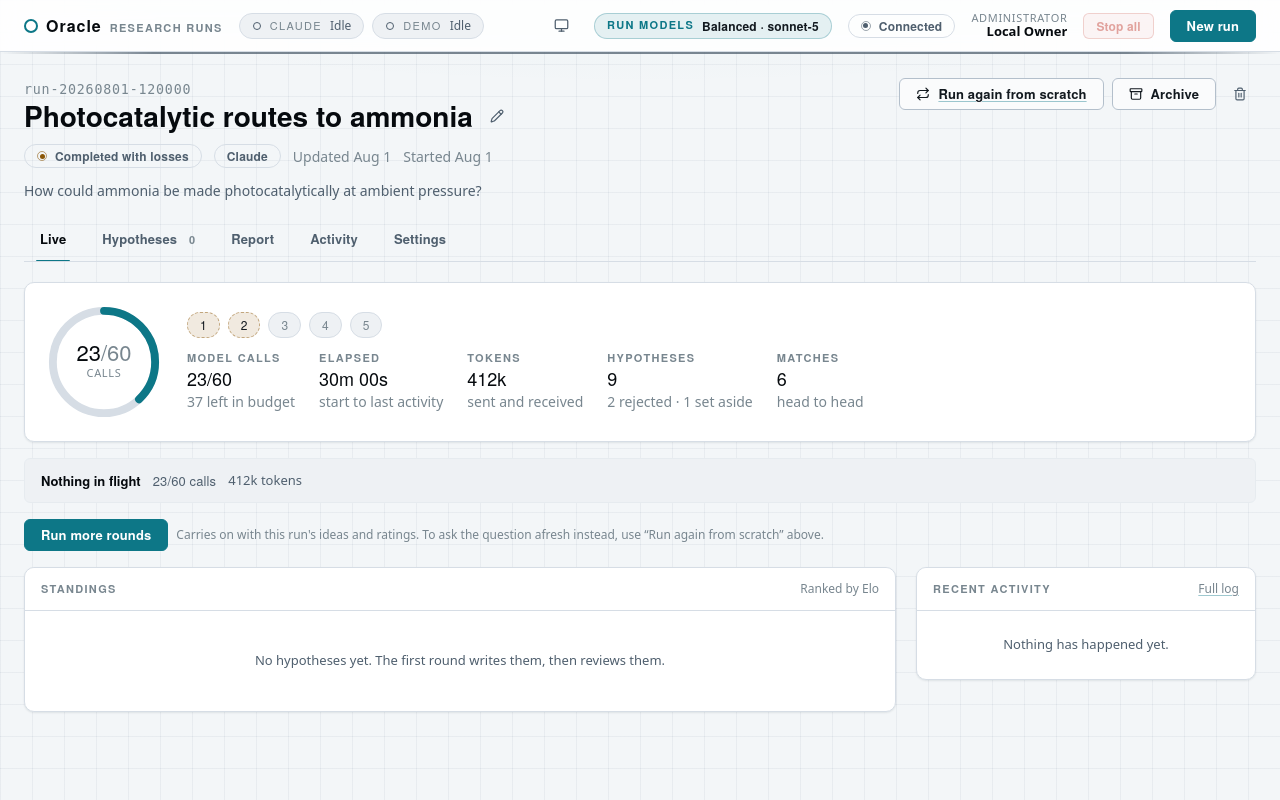
Test: model indicator — a run › shows the run's own table, not today's default
Click the button with aria-label "Run models:" at point(713, 26), box [594,12,832,38]
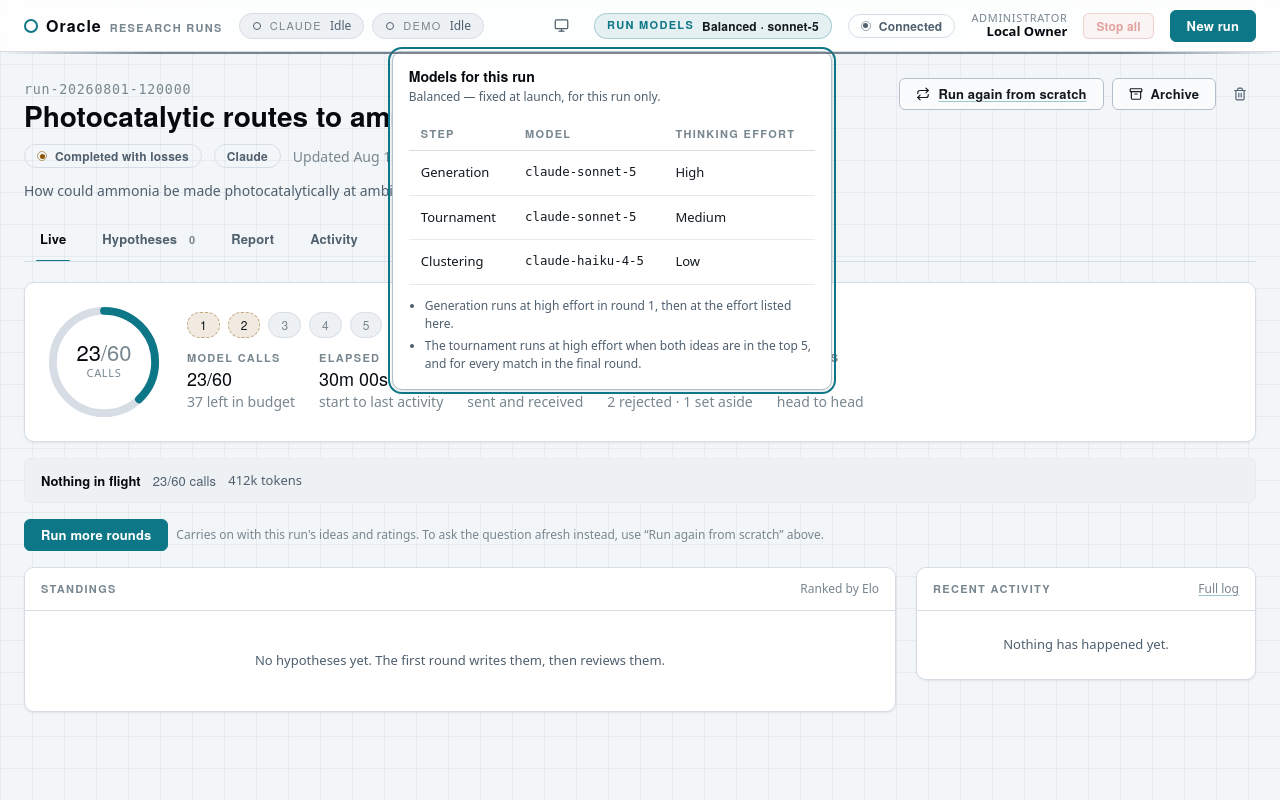
Expected: the element "Models for this run" shows "fixed at launch", [409,88,660,105]
Expected: the number of cells "claude-sonnet-5" is 2, [513,151,663,195]; [513,195,663,240]
Expected: the number of cells "claude-haiku-4-5" is 1, [513,240,663,284]
